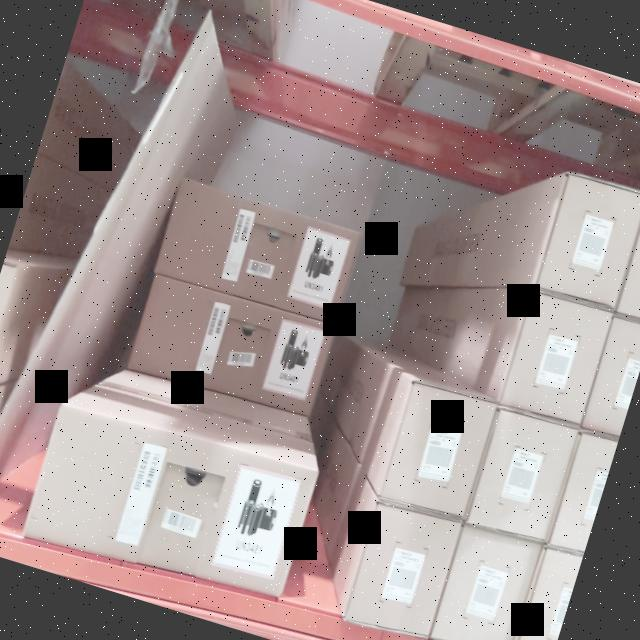box: (23, 402, 316, 603), (152, 176, 364, 330), (128, 276, 334, 422), (378, 376, 498, 524), (344, 494, 464, 636), (497, 289, 616, 428), (466, 405, 582, 543), (532, 171, 640, 314), (431, 522, 543, 640), (548, 427, 618, 555), (580, 309, 640, 443), (512, 541, 583, 640), (616, 200, 640, 327)
